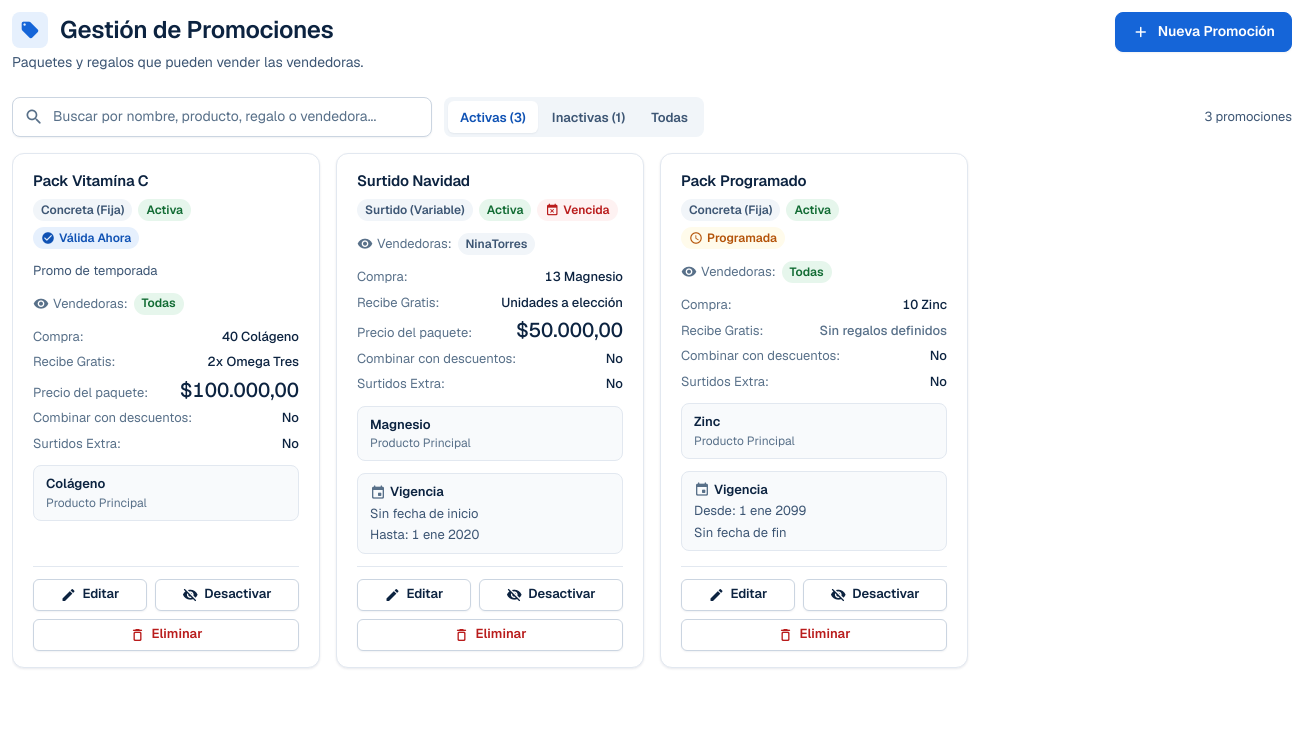
Test: al desactivar, la tarjeta pasa a Inactivas
The width and height of the screenshot is (1304, 732).
Expected: the heading "Pack Vitamína C" is shown, left=33, top=171, right=149, bottom=190
Click the button "Desactivar" below "100.000,00": (227, 594) left=155, top=578, right=299, bottom=610
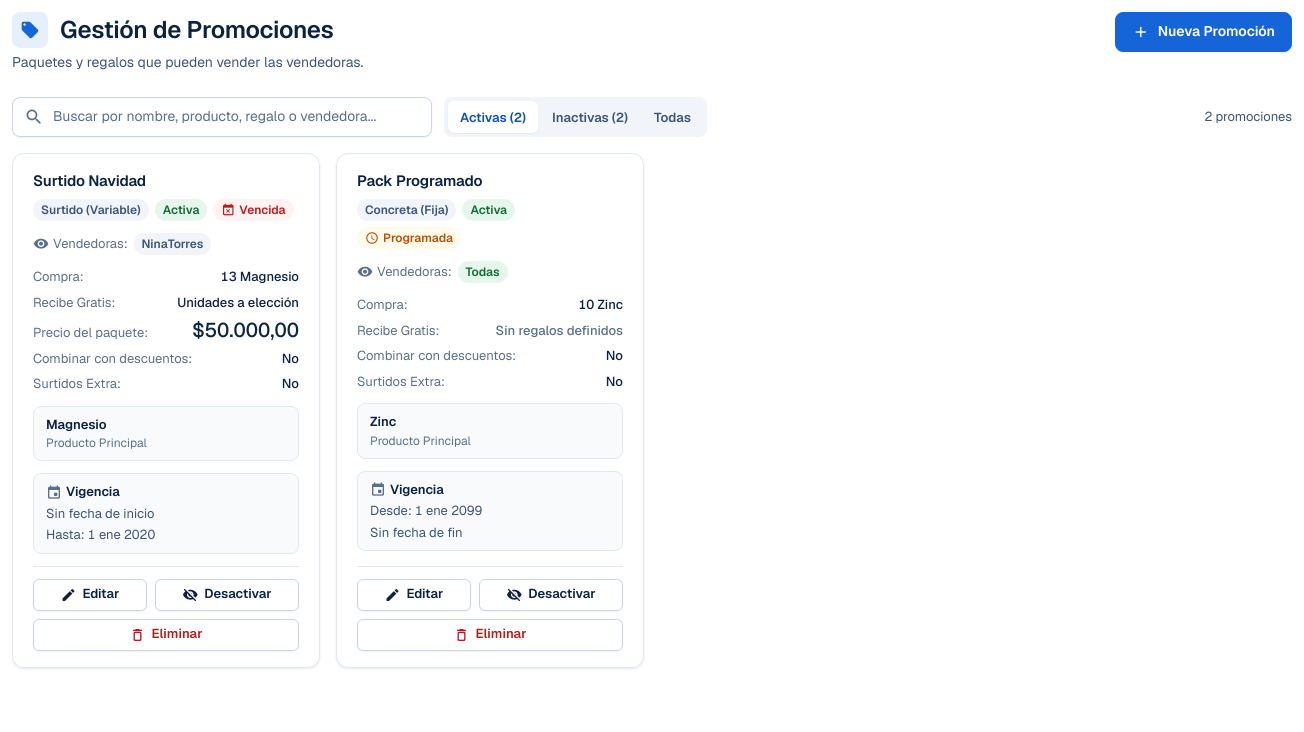
Expected: the tab "Inactivas (2)" is shown, left=540, top=101, right=640, bottom=133
Expected: the heading "Pack Vitamína C" is gone
